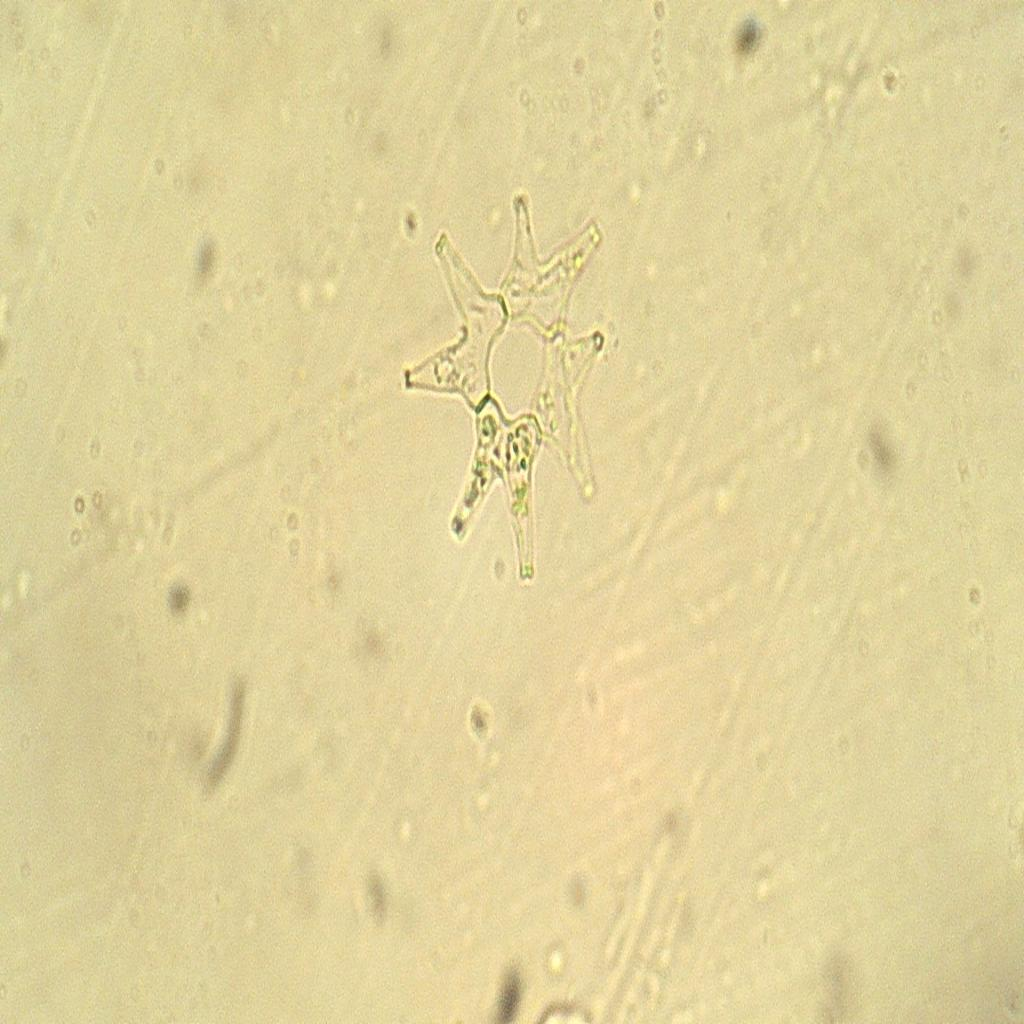Pediastrum_1F0: (392, 159, 622, 594)
